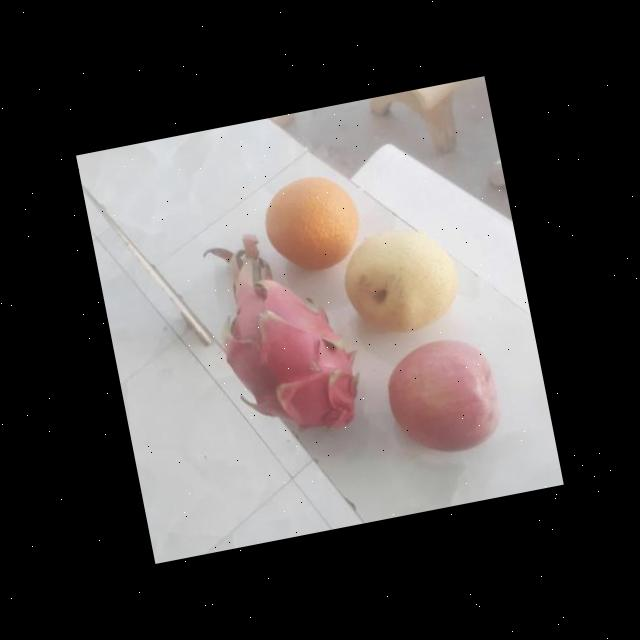apple: (379, 330, 512, 460)
orange: (257, 170, 372, 280)
pear: (336, 220, 472, 341)
pitaya: (212, 260, 372, 447)
